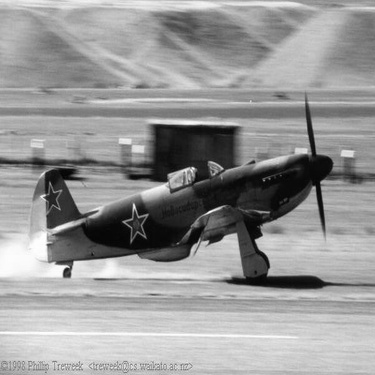airplane: (22, 89, 342, 288)
